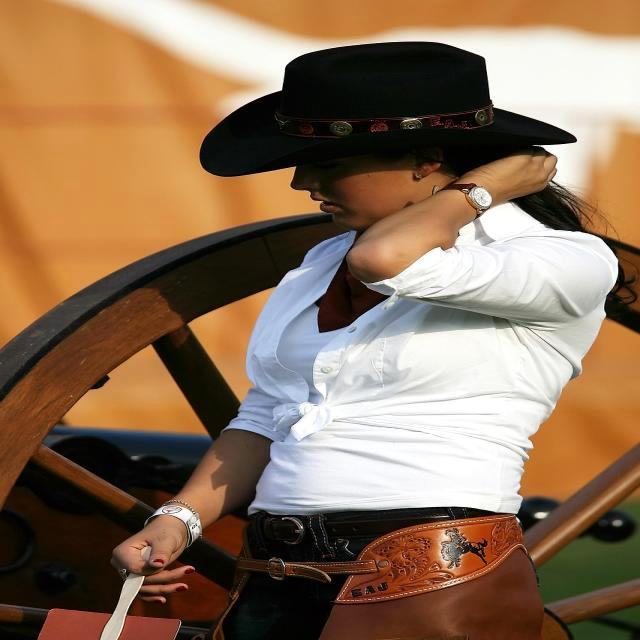no_hard_hat: (200, 42, 576, 176)
person: (111, 149, 632, 640)
